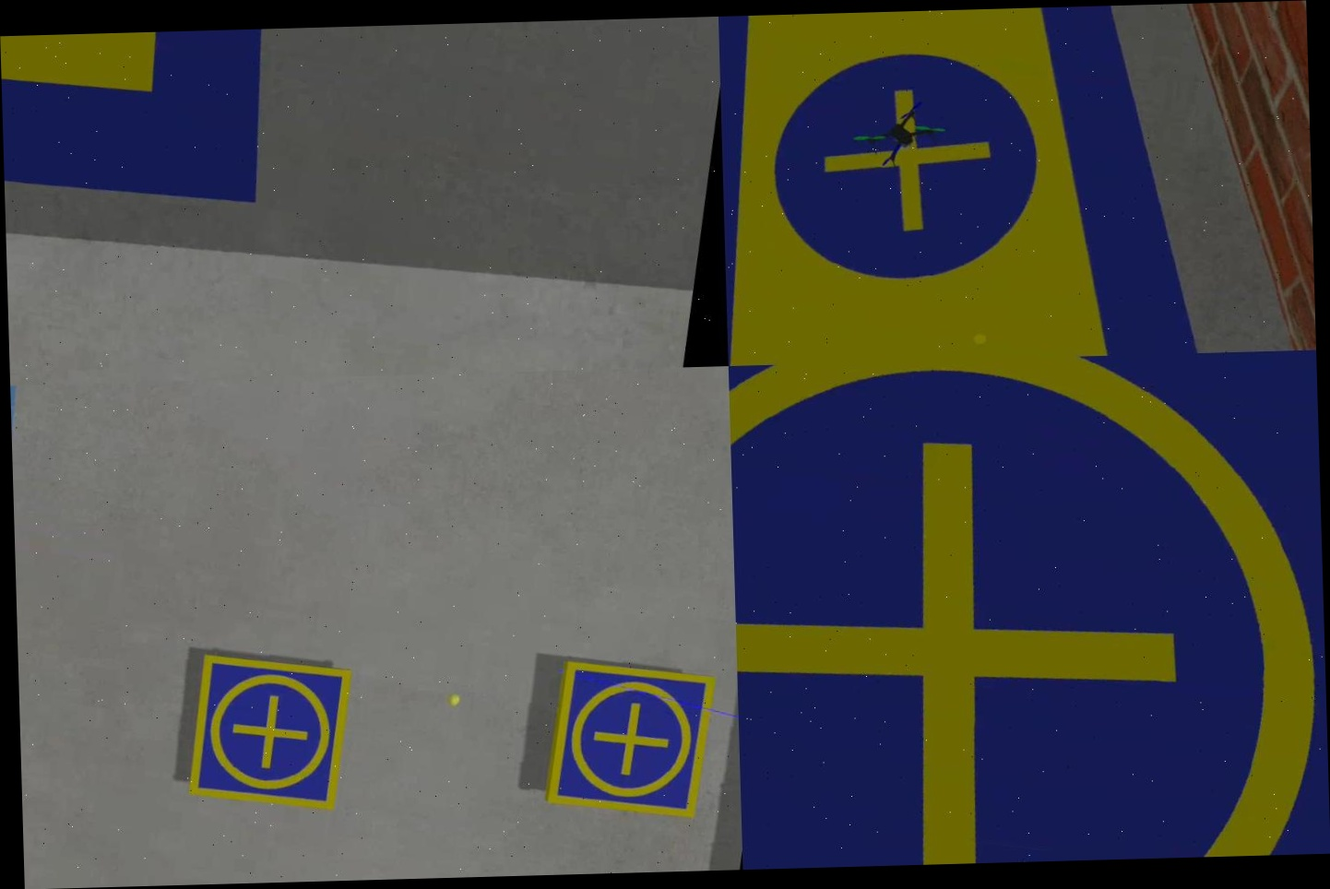large_base: (718, 1, 1297, 366), (0, 27, 346, 245)
small_base: (729, 350, 1330, 869), (539, 654, 718, 831), (182, 646, 356, 820)
